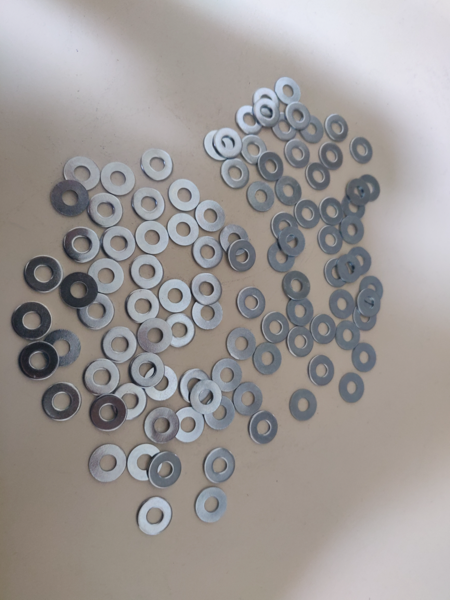circle: (87, 441, 129, 486), (40, 382, 83, 424), (19, 341, 60, 382), (12, 301, 53, 341), (42, 328, 82, 368), (89, 393, 128, 433), (24, 255, 63, 294), (127, 443, 165, 483), (110, 382, 149, 420), (60, 271, 98, 309), (83, 358, 121, 396), (50, 181, 89, 218), (61, 227, 101, 263), (86, 191, 123, 229), (137, 497, 173, 536), (102, 325, 138, 363), (79, 291, 114, 330), (147, 452, 182, 490), (88, 258, 124, 294), (136, 319, 173, 354), (203, 447, 237, 485), (98, 227, 136, 261), (63, 157, 101, 191), (195, 487, 228, 526), (130, 253, 165, 289), (178, 369, 213, 405), (130, 353, 165, 389), (125, 286, 159, 323), (100, 161, 135, 196), (131, 186, 166, 221), (144, 366, 179, 401), (283, 325, 318, 360), (172, 407, 206, 443), (163, 214, 201, 246), (135, 220, 169, 255), (202, 396, 237, 430), (189, 380, 223, 415), (162, 314, 197, 348), (210, 357, 243, 393), (145, 409, 179, 443), (193, 201, 228, 234), (190, 273, 223, 307), (192, 237, 226, 270), (160, 278, 192, 313), (169, 179, 202, 212), (191, 299, 225, 331), (141, 148, 173, 181), (233, 382, 264, 416), (290, 389, 319, 424), (308, 354, 337, 389), (221, 225, 251, 258), (261, 312, 290, 346), (249, 411, 278, 444), (238, 286, 266, 320), (339, 371, 367, 405), (267, 242, 297, 273), (221, 158, 251, 189), (235, 105, 266, 135), (254, 343, 283, 375), (214, 128, 243, 160), (278, 225, 306, 258), (271, 210, 298, 244), (230, 239, 256, 274), (203, 132, 233, 162), (229, 328, 257, 360), (248, 181, 275, 214), (323, 256, 350, 289), (282, 271, 312, 300), (335, 320, 362, 351), (241, 134, 268, 165), (352, 342, 378, 374), (329, 289, 355, 321), (252, 88, 280, 117), (311, 314, 338, 344), (287, 297, 314, 327), (254, 98, 281, 128), (299, 113, 325, 144), (355, 287, 381, 318), (272, 109, 296, 142), (275, 77, 303, 105), (275, 177, 302, 206), (317, 225, 343, 255), (337, 255, 363, 285), (347, 248, 374, 276), (306, 162, 332, 191), (339, 216, 365, 245), (295, 199, 320, 229), (319, 142, 344, 172), (353, 302, 378, 332), (285, 141, 311, 169), (341, 193, 367, 221), (360, 276, 386, 304), (259, 152, 283, 181), (347, 177, 371, 206), (319, 198, 344, 225), (286, 102, 311, 129), (350, 137, 374, 165), (357, 175, 381, 203), (326, 115, 349, 142)
